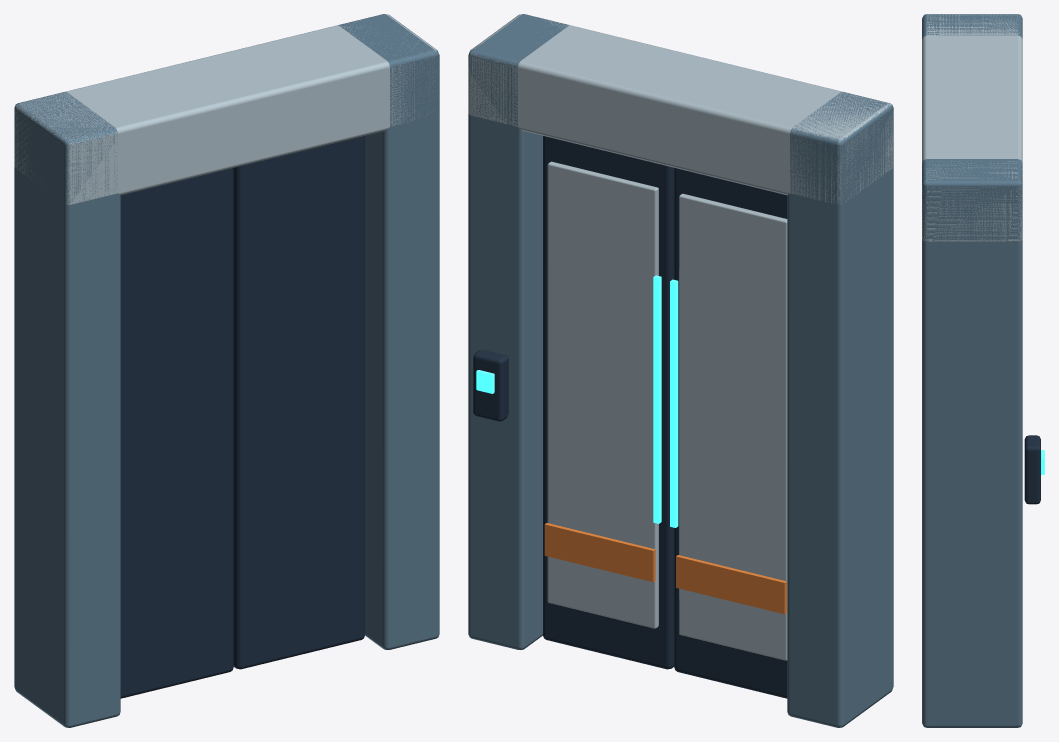
Rendered from airlock-door.glb.
The picture shows the model from 3 angles, left to right: view 1: azimuth 30°, elevation 25°; view 2: azimuth 150°, elevation 25°; view 3: azimuth 270°, elevation 25°; orthographic projection. The views are drawn at different scales.
Visible parts, largest first — view 1: door-leaf-0.35, jamb--0.85, door-leaf--0.35, jamb-0.85, lintel; view 2: jamb--0.85, door-plate-0.35, door-plate--0.35, jamb-0.85, lintel, door-leaf-0.35, door-leaf--0.35, hazard-band-0.35, hazard-band--0.35, seam-light-0.35, seam-light--0.35, access-panel; view 3: jamb-0.85, lintel, jamb--0.85, access-panel.
Boxes of the visible parts, x1,y1,x2,y2 form: door-leaf-0.35: [233, 136, 364, 669]; jamb--0.85: [14, 92, 120, 727]; door-leaf--0.35: [120, 168, 233, 698]; jamb-0.85: [338, 14, 439, 649]; lintel: [14, 14, 438, 204]; jamb--0.85: [787, 92, 893, 727]; door-plate-0.35: [547, 161, 658, 628]; door-plate--0.35: [679, 193, 787, 660]; jamb-0.85: [468, 14, 569, 649]; lintel: [468, 14, 893, 204]; door-leaf-0.35: [543, 136, 674, 669]; door-leaf--0.35: [674, 168, 787, 698]; hazard-band-0.35: [544, 523, 655, 582]; hazard-band--0.35: [676, 555, 786, 614]; seam-light-0.35: [653, 275, 661, 523]; seam-light--0.35: [670, 279, 678, 527]; access-panel: [473, 350, 508, 421]; jamb-0.85: [922, 159, 1022, 727]; lintel: [922, 14, 1022, 241]; jamb--0.85: [922, 14, 1022, 38]; access-panel: [1024, 435, 1040, 504].
Bounding box in the file's own units: 2 × 3 × 0.61.
